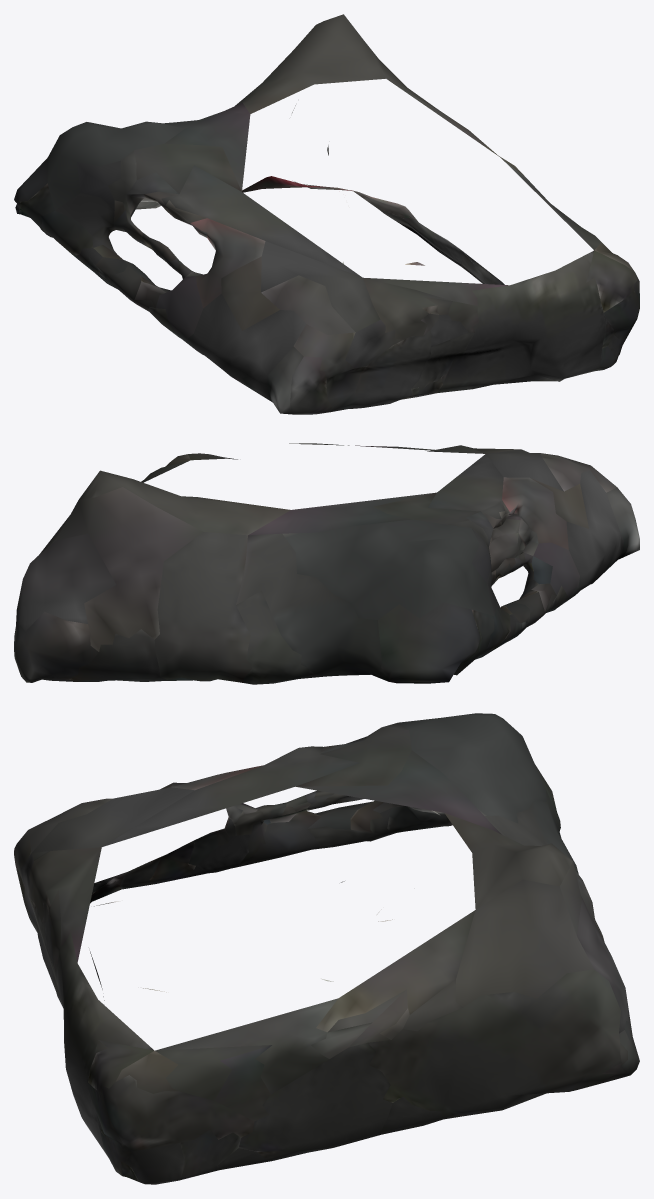
File: hall.glb
3 renders of one model, top to bottom at view 1: azimuth 30°, elevation 25°; view 2: azimuth 150°, elevation 25°; view 3: azimuth 270°, elevation 25°, orthographic. The views are drawn at different scales.
Size of the model in its own units: 0.6954 by 0.3538 by 0.7141.
1 material, 1 textured.
